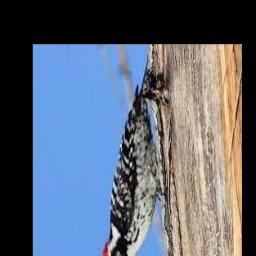Woodpecker: (101, 73, 161, 256)
